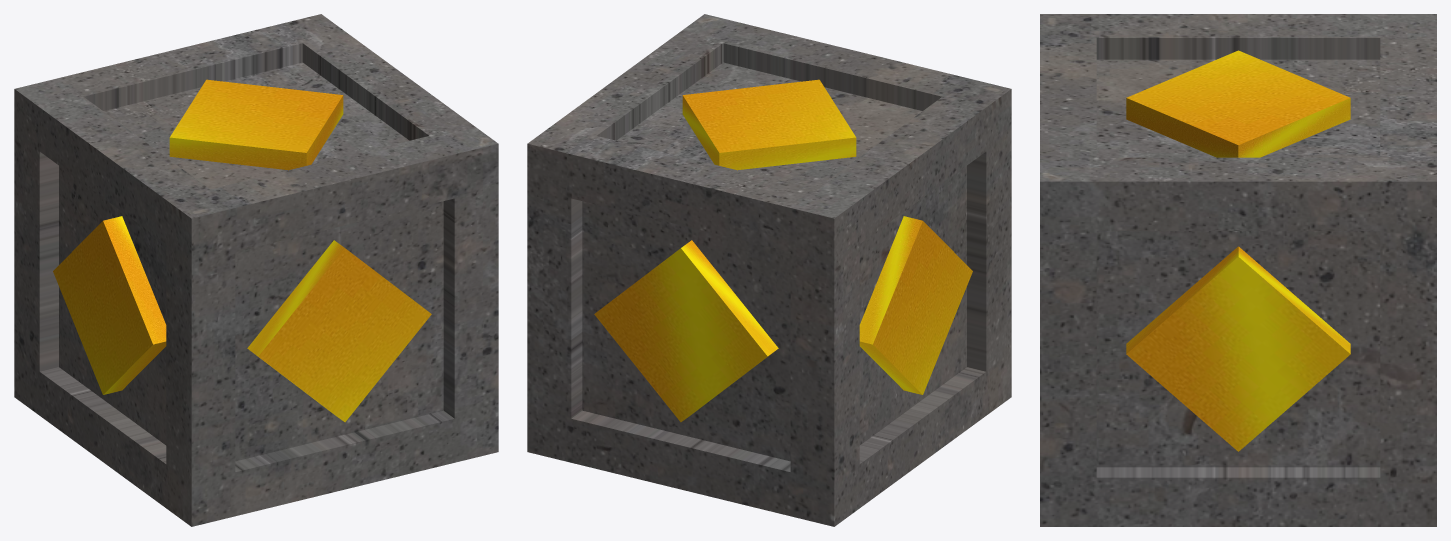
File: cubo.glb
The picture shows the model from 3 angles, left to right: view 1: azimuth 30°, elevation 25°; view 2: azimuth 150°, elevation 25°; view 3: azimuth 270°, elevation 25°; orthographic projection. The views are drawn at different scales.
Visible parts, largest first — view 1: Cube.011; view 2: Cube.011; view 3: Cube.011.
Boxes of the visible parts, x1,y1,x2,y2 form: Cube.011: (14,14,498,526); Cube.011: (527,14,1011,526); Cube.011: (1040,14,1436,526).
Size of the model in its own units: 0.5 by 0.48 by 0.5.
2 materials, 2 textured.
